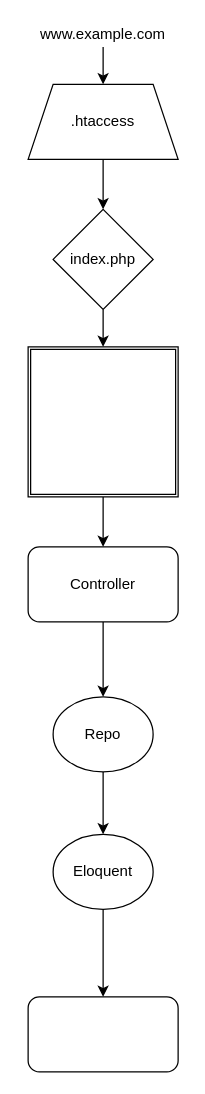
Some shapes in this 205 by 1094 pixel diagram are drawn without their labels. The shapes that lost their labels are listed below. From the top down, each one's centre as x and y in pixels, then its label:
At point 102,421: "View".
At point 102,1034: "Model".
